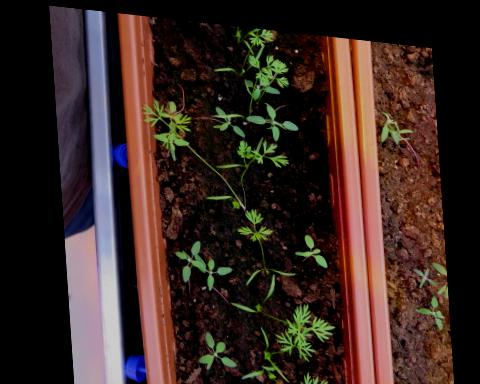weed: (189, 322, 235, 368), (286, 219, 326, 261)
